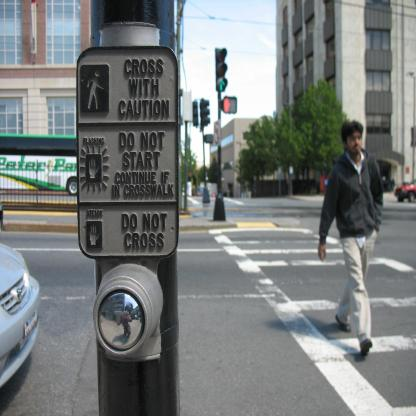Crosswalk: (212, 223, 416, 416)
Don-t Walk: (221, 96, 237, 113)
Walk: (80, 66, 108, 112)
